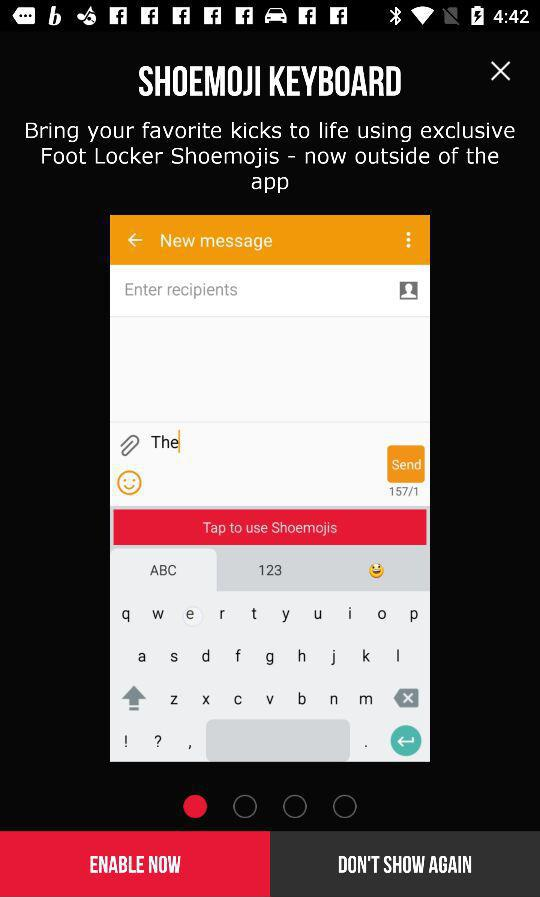Icon: (490, 61, 512, 82)
Image: (110, 215, 430, 763)
PageIndicator: (182, 793, 358, 820)
Text: (26, 123, 516, 194), (139, 66, 402, 97)
TextButton: (1, 831, 271, 897), (271, 831, 540, 897)
UpperTaskBar: (1, 1, 540, 29)
